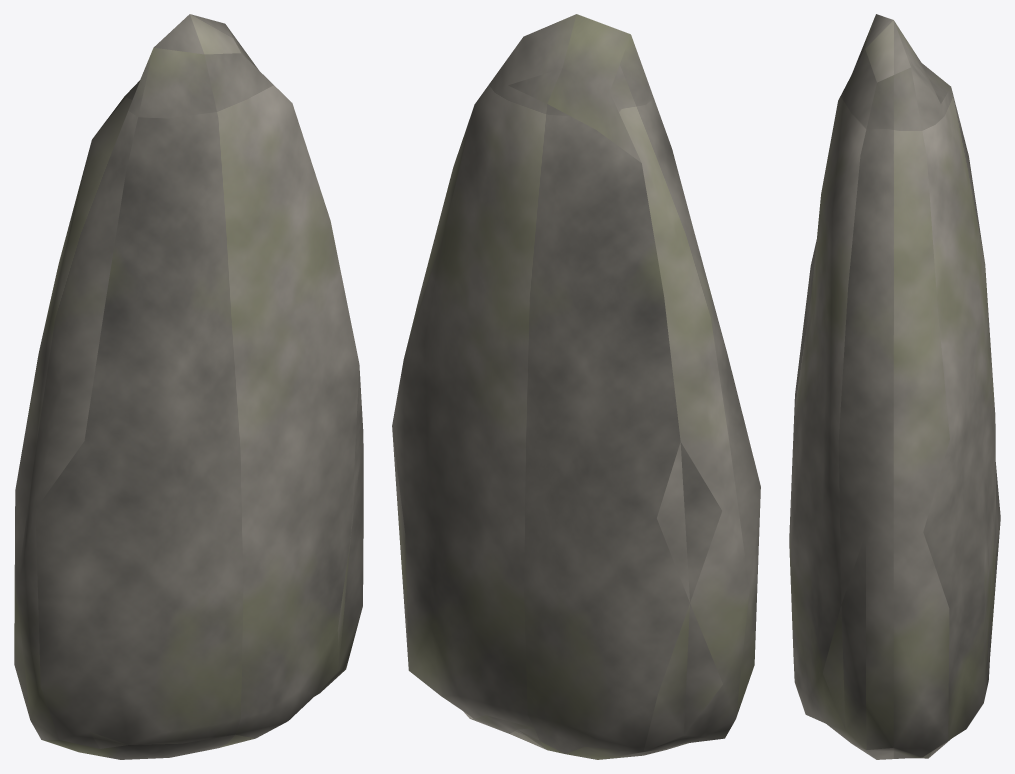
File: Standing_Stone_2_LOD1.gltf
3 views of the same model, side by side, from view 1: azimuth 30°, elevation 25°; view 2: azimuth 150°, elevation 25°; view 3: azimuth 270°, elevation 25° (orthographic). The views are drawn at different scales.
Visible parts, largest first — view 1: Standing_Stone_2_LOD1; view 2: Standing_Stone_2_LOD1; view 3: Standing_Stone_2_LOD1.
Boxes of the visible parts, x1,y1,x2,y2 form: Standing_Stone_2_LOD1: (14, 14, 363, 759); Standing_Stone_2_LOD1: (392, 14, 760, 759); Standing_Stone_2_LOD1: (789, 14, 1000, 759).
Size of the model in its own units: 1.57 by 3.13 by 0.8511.
1 material, 1 textured.
